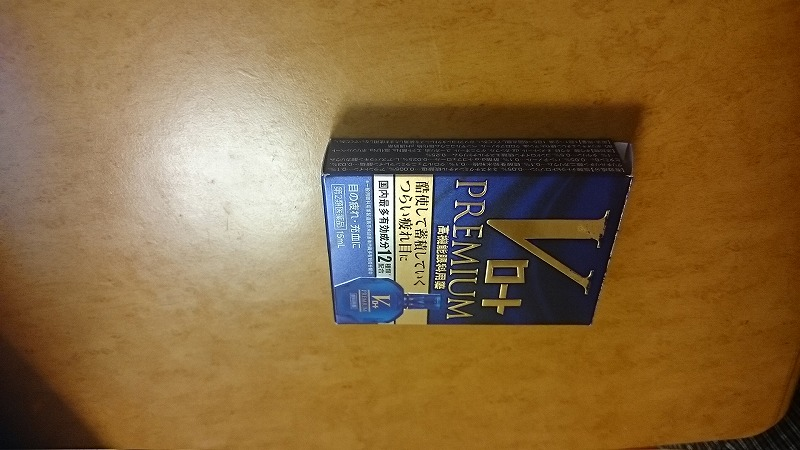D: (310, 129, 639, 337)
